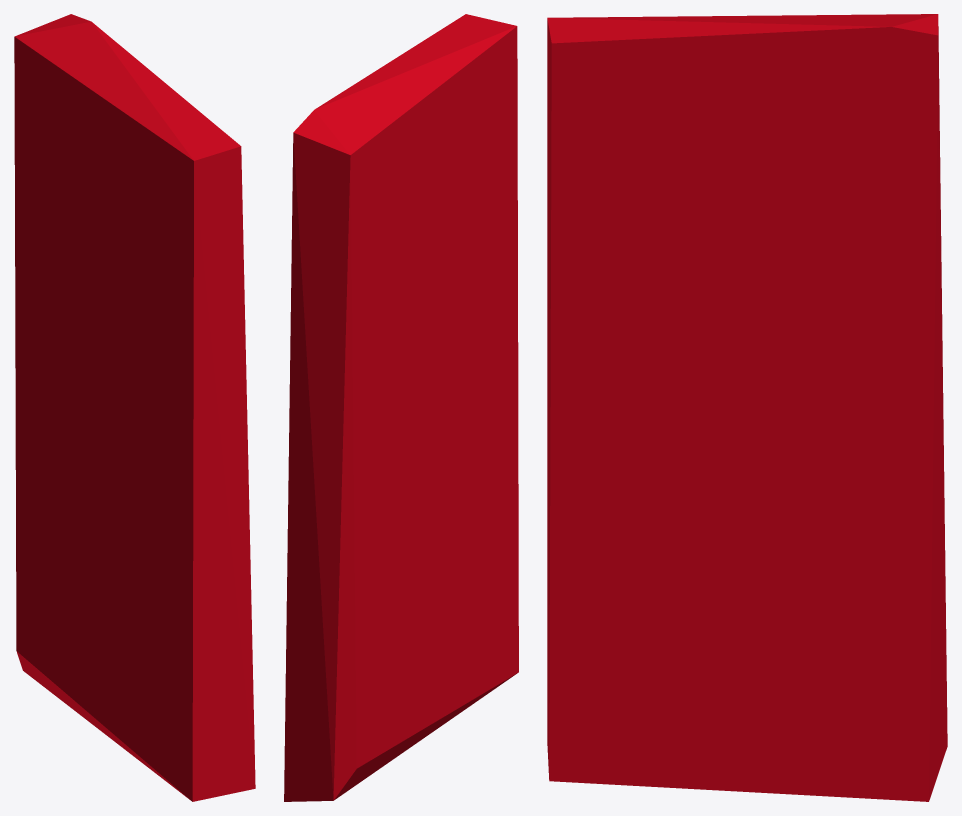
File: pent_convex_piece_009.obj
3 views of the same model, side by side, from view 1: azimuth 30°, elevation 25°; view 2: azimuth 150°, elevation 25°; view 3: azimuth 270°, elevation 25° (orthographic). The views are drawn at different scales.
Bounding box in the file's own units: 0.00652 × 0.0584 × 0.0276.
